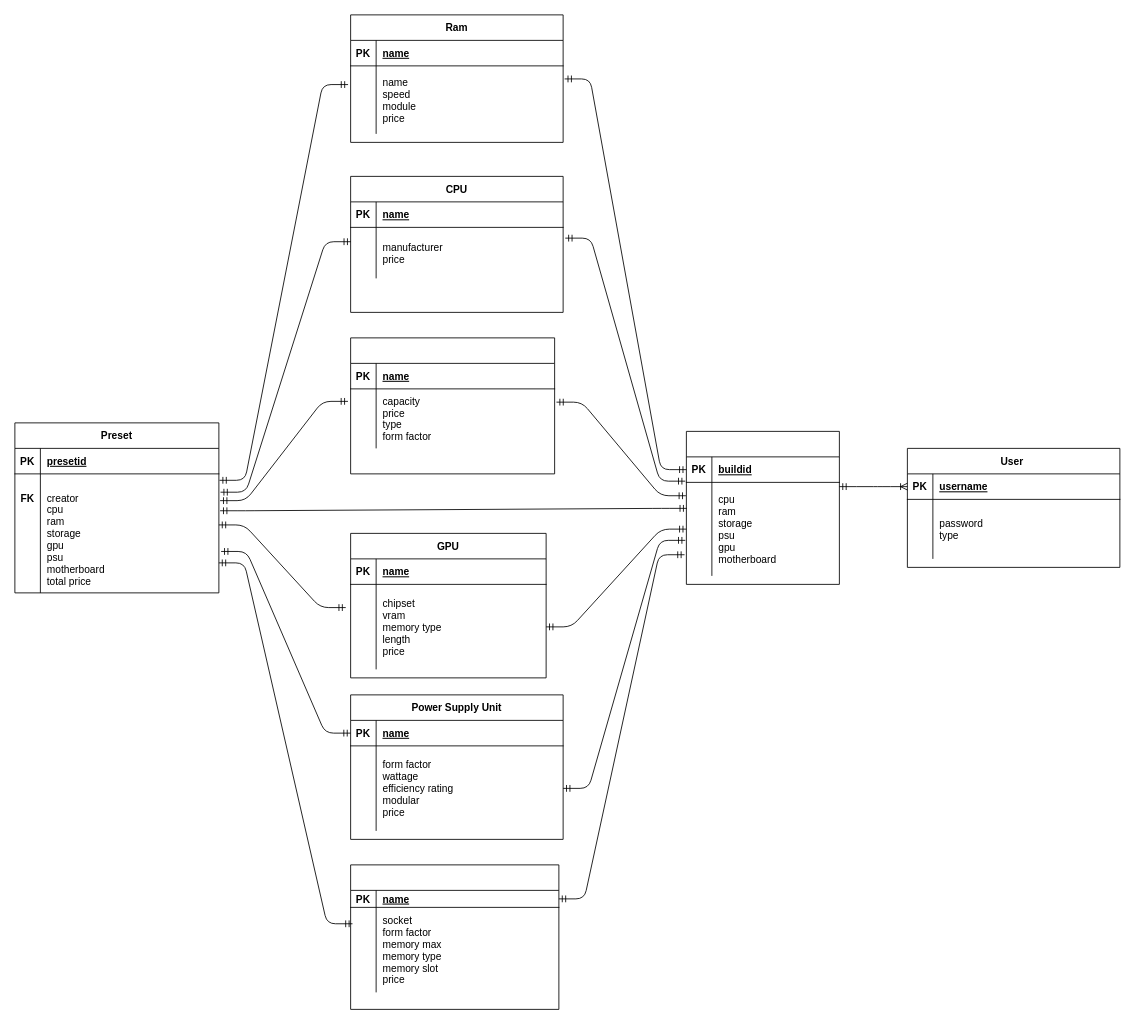
Image size: 1135x1024. Some labels were removed from this diagram. Here are the shapes that lost their labels. From the top down, the box of each, then its label:
(350, 337, 555, 474): Storage
(686, 431, 839, 584): PC Builder
(350, 864, 559, 1009): Motherboard
